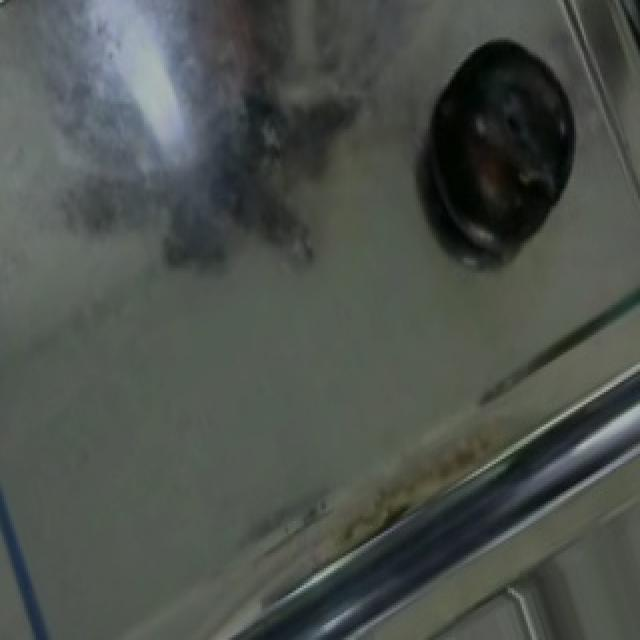Fruit: (414, 42, 602, 268)
